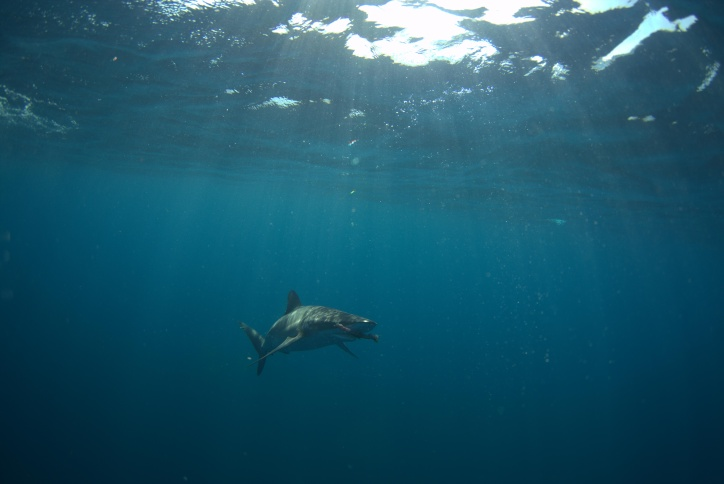Sedoso: (232, 273, 396, 385)
